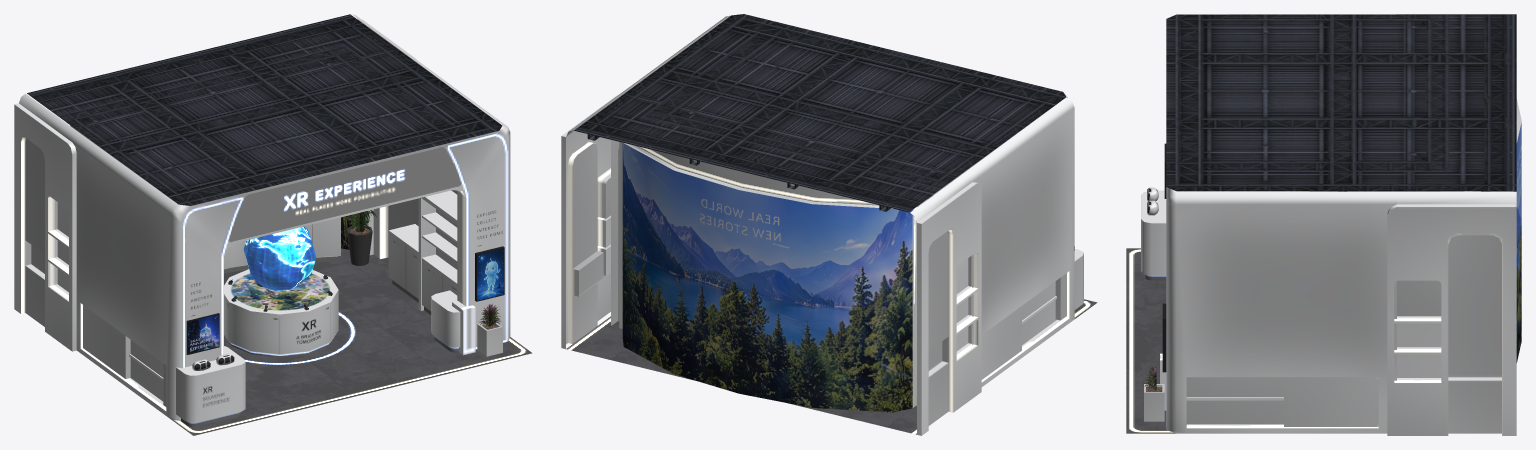
3 renders of one model, left to right at view 1: azimuth 30°, elevation 25°; view 2: azimuth 150°, elevation 25°; view 3: azimuth 270°, elevation 25°, orthographic. The views are drawn at different scales.
Visible parts, largest first — view 1: Model_1, Model_1.014, Model_1.012, Model_1.009, Model_1.011, Model_1.010, Model_1.005, Model_1.032, Model_1.022, Model_1.007, Model_1.008, Model_1.033 (+4 smaller); view 2: Model_1, Model_1.014, Model_1.012, Model_1.011; view 3: Model_1, Model_1.014, Model_1.012, Model_1.011, Model_1.060.
Boxes of the visible parts, <box> form: Model_1: <box>14,14,510,420</box>; Model_1.014: <box>27,14,502,205</box>; Model_1.012: <box>171,248,532,435</box>; Model_1.009: <box>224,269,338,357</box>; Model_1.011: <box>163,346,245,427</box>; Model_1.010: <box>243,226,316,290</box>; Model_1.005: <box>418,190,457,310</box>; Model_1.032: <box>388,224,418,302</box>; Model_1.022: <box>224,217,340,273</box>; Model_1.007: <box>431,290,460,352</box>; Model_1.008: <box>475,246,504,301</box>; Model_1.033: <box>422,254,457,314</box>; Model_1: <box>561,15,1074,435</box>; Model_1.014: <box>574,14,1066,212</box>; Model_1.012: <box>566,299,1097,434</box>; Model_1.011: <box>1055,249,1083,320</box>; Model_1: <box>1166,14,1521,435</box>; Model_1.014: <box>1166,14,1516,191</box>; Model_1.012: <box>1126,248,1175,433</box>; Model_1.011: <box>1141,190,1166,280</box>; Model_1.060: <box>1144,384,1164,421</box>.
Size of the model in its own units: 513 by 305 by 452.
1 material, 1 textured.
